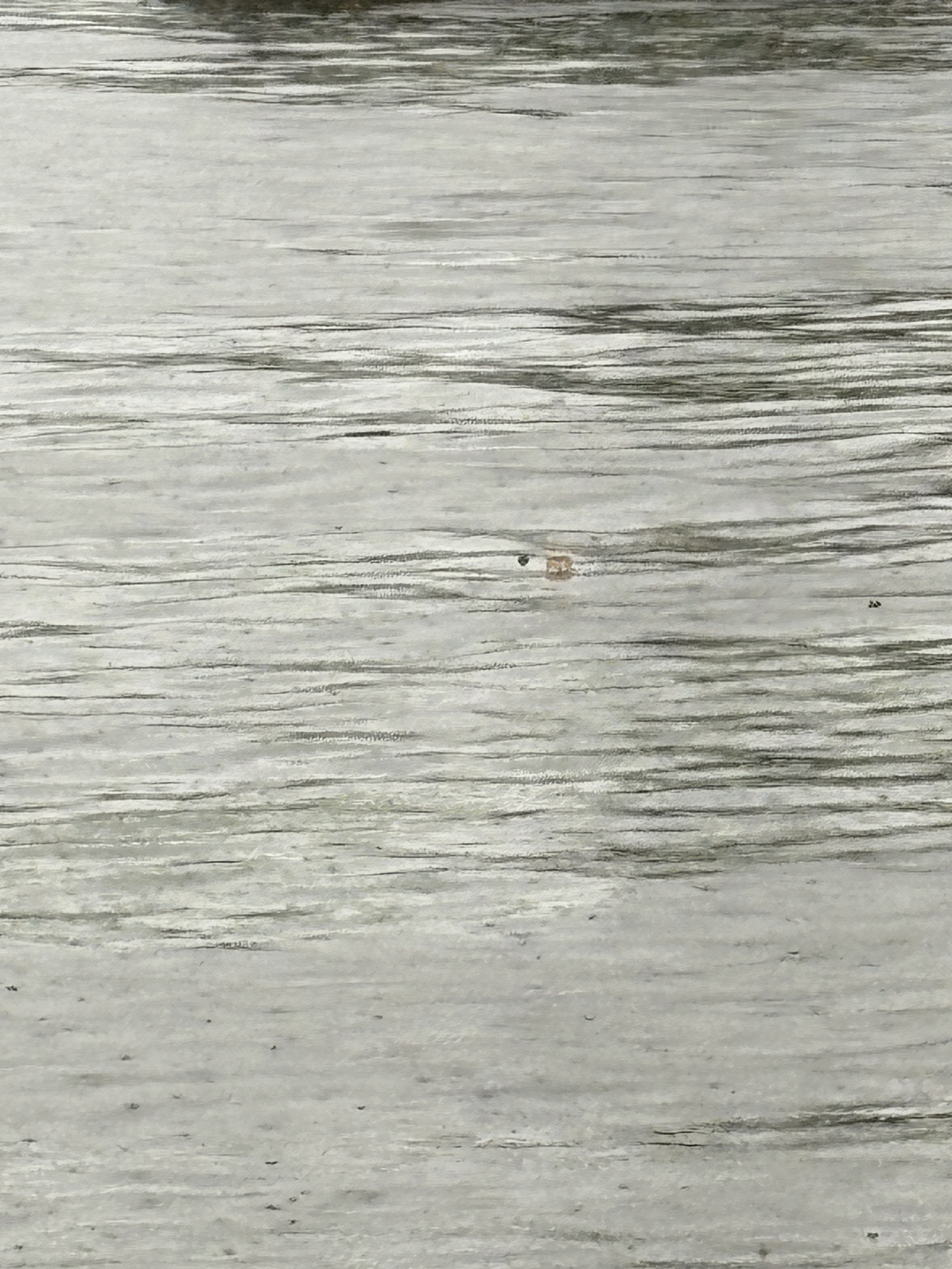Natural wastes: (408, 504, 439, 585), (316, 740, 334, 806)
